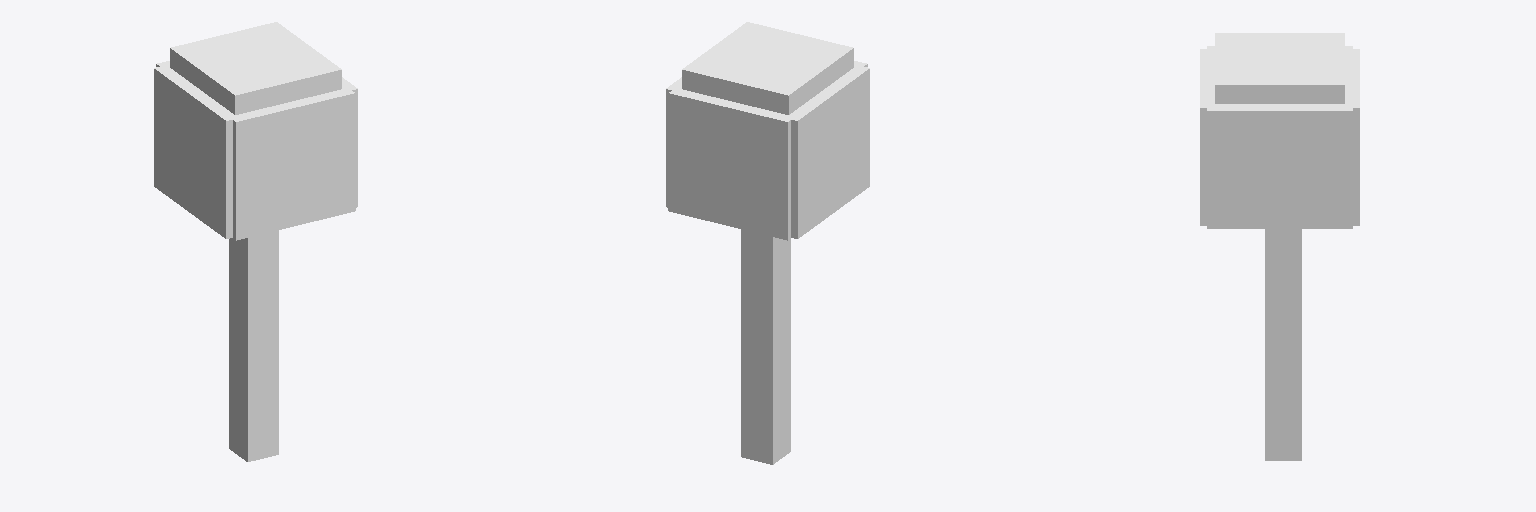
The model's file is Boom4.obj.
The picture shows the model from 3 angles: view 1: azimuth 30°, elevation 25°; view 2: azimuth 150°, elevation 25°; view 3: azimuth 270°, elevation 25°; orthographic projection.
Visible parts, largest first — view 1: object 1; view 2: object 1; view 3: object 1.
Boxes of the visible parts, x1,y1,x2,y2 form: object 1: [154, 22, 357, 461]; object 1: [666, 22, 869, 464]; object 1: [1200, 33, 1359, 460].
Size of the model in its own units: 2.1 by 6 by 2.2.